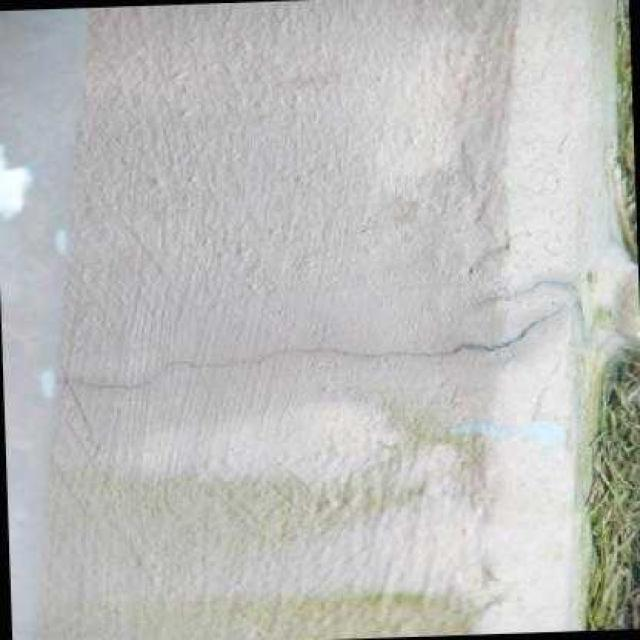D00: (53, 304, 567, 397)
